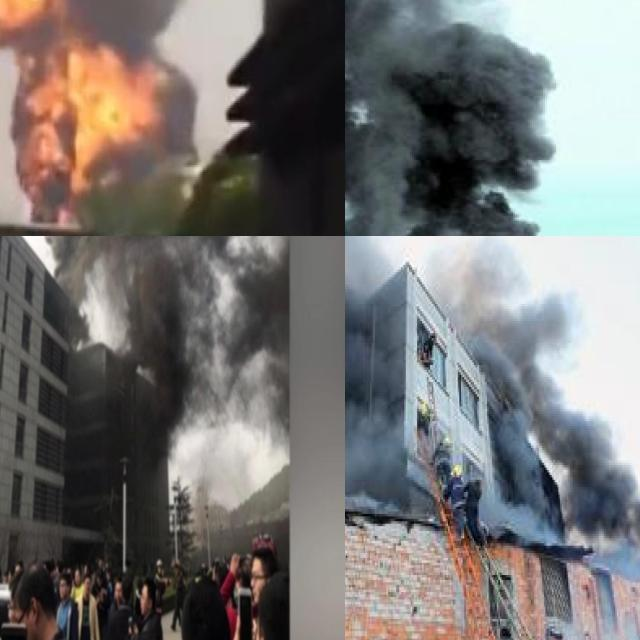fire: (6, 34, 174, 199)
smoke: (345, 236, 640, 555), (40, 236, 288, 459), (345, 0, 557, 236), (0, 0, 199, 198)
